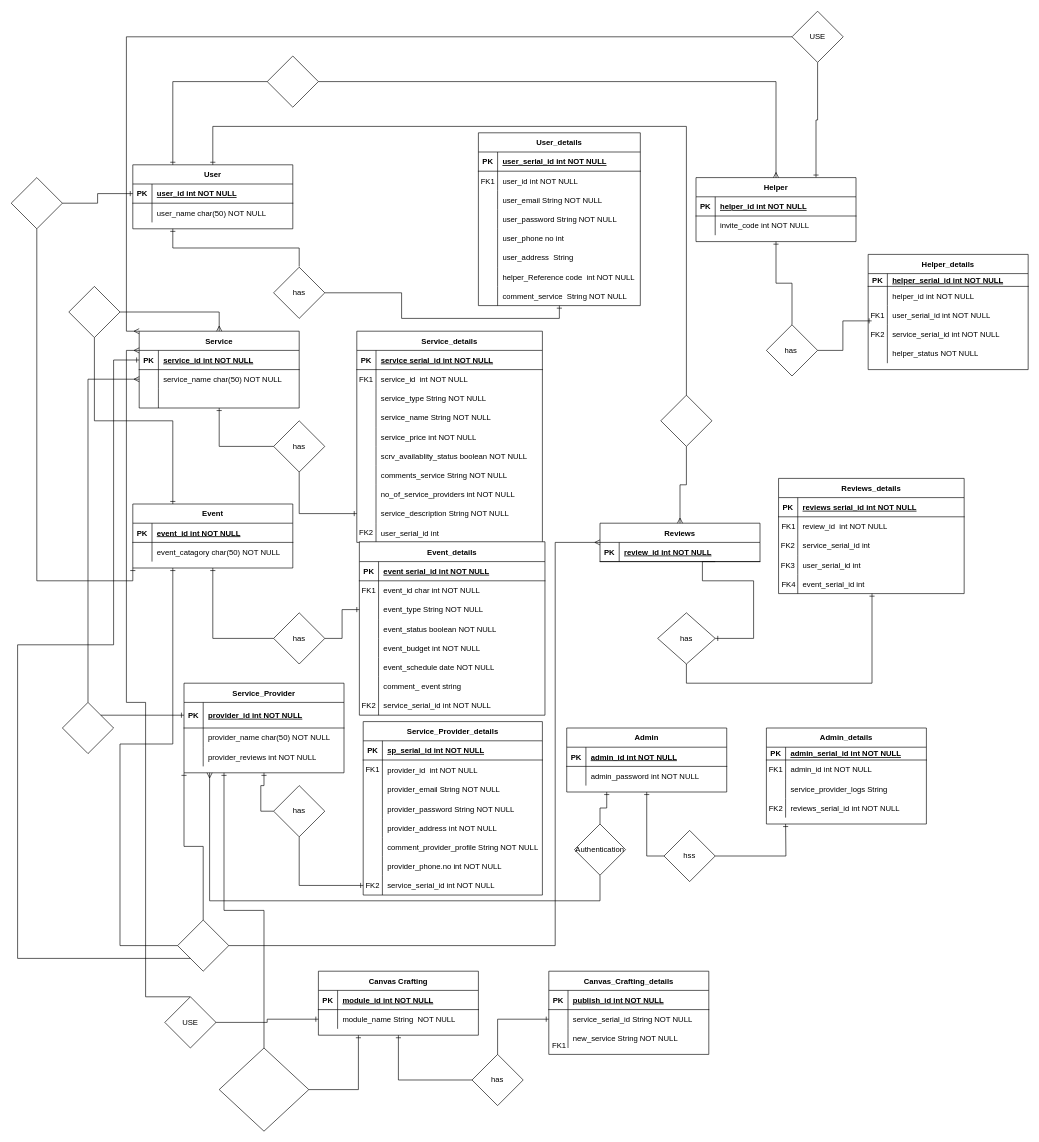
This 1039x1142 diagram has some shape labels left out. Here are the shapes that lost their labels. From the top down, the centre of each, then its label:
At (292,81): "ASK".
At (36,203): "SELECT".
At (94,312): "CONTAIN".
At (686,420): "GIVE".
At (88,728): "PROVIDE".
At (203,945): "RECIEVES".
At (264,1089): "CUSTOMIZATION".
